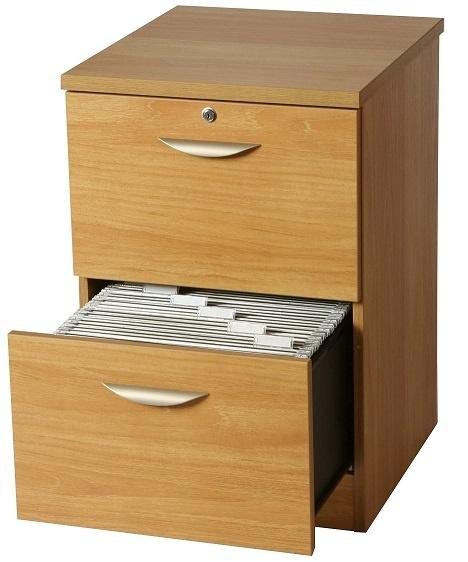cabinet_door: (13, 346, 303, 532), (75, 104, 358, 290)
handle: (105, 376, 210, 419), (160, 129, 260, 170)
